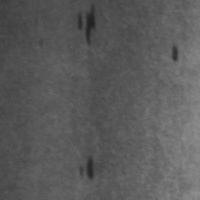inclusion: (75, 2, 100, 47), (76, 152, 99, 183), (169, 42, 182, 64)
